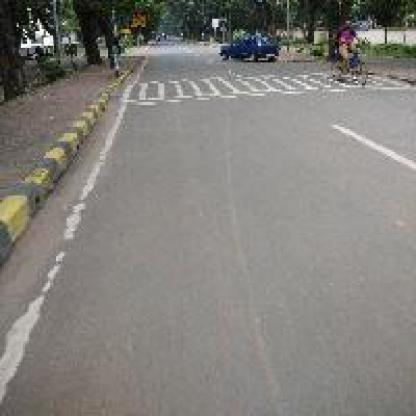Speed Bump: (127, 67, 331, 108)
